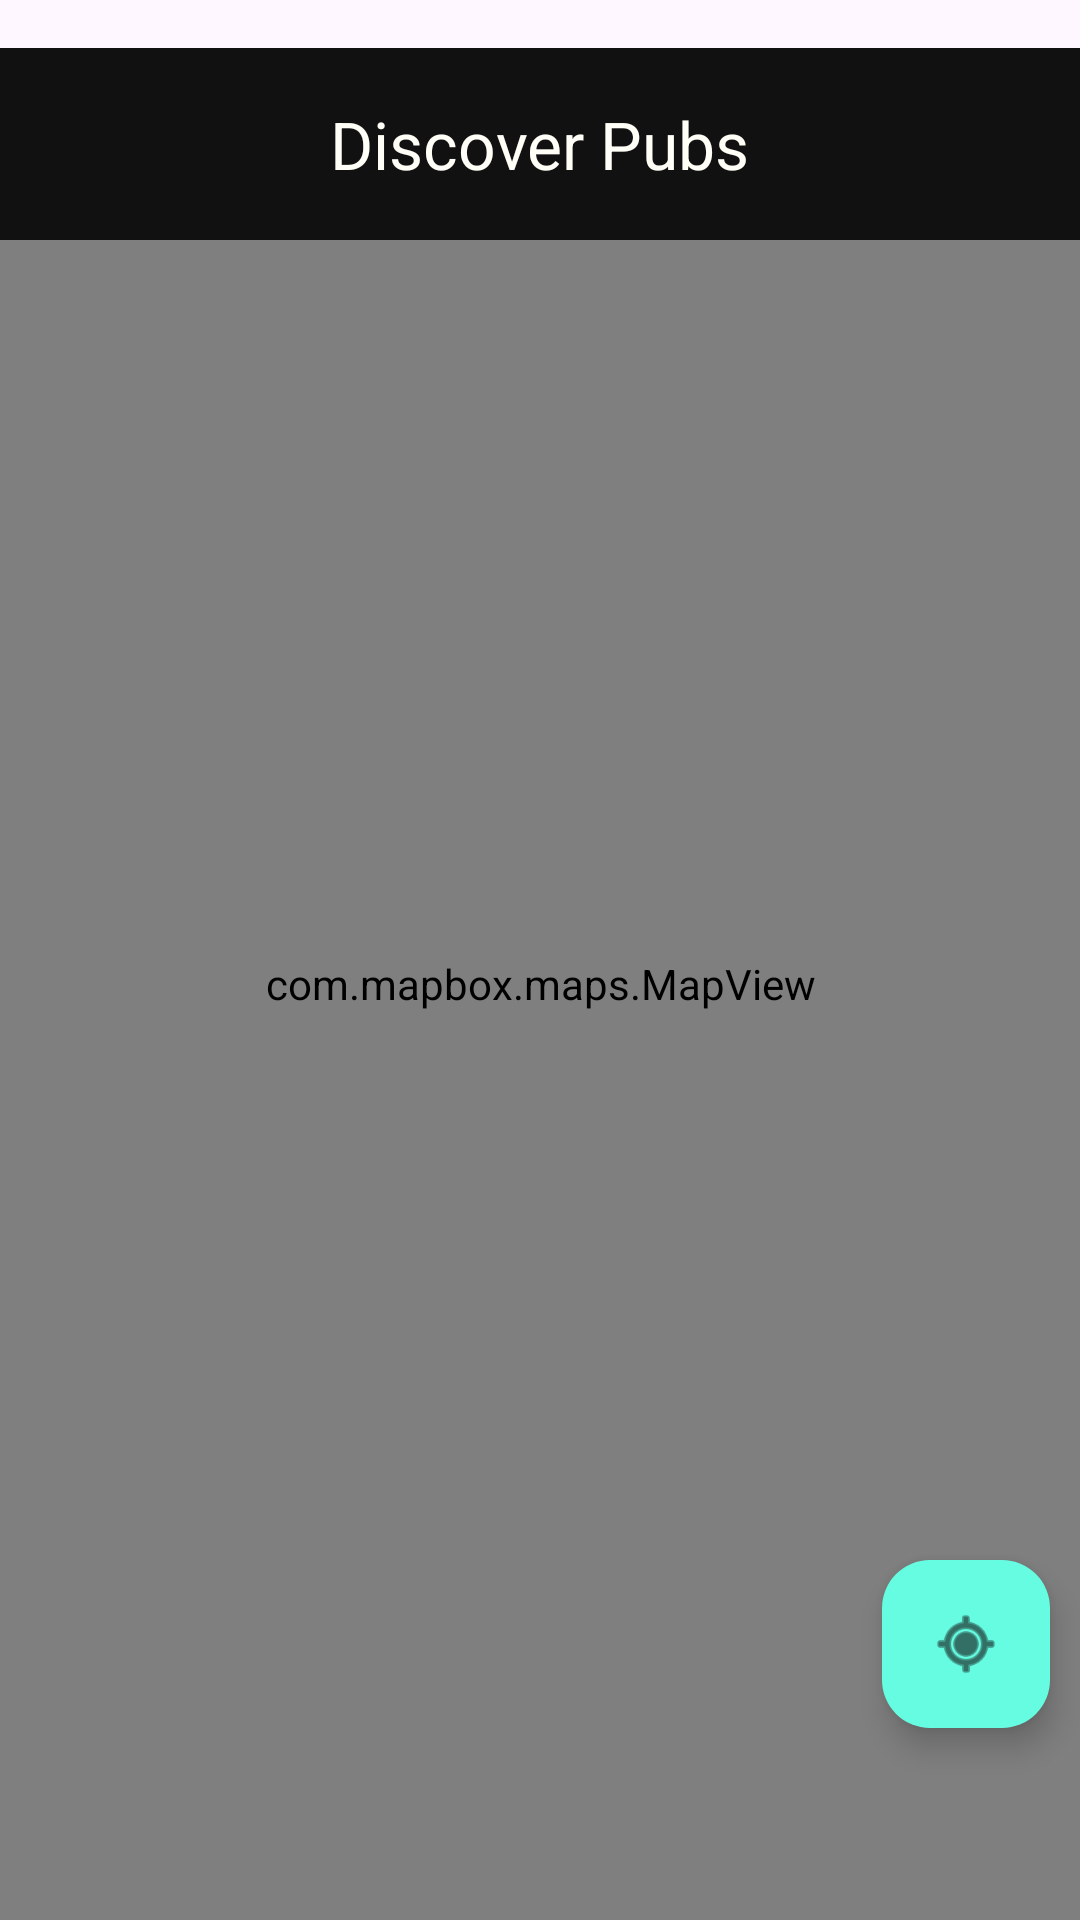

Point at icon controls on the screen. Image size 1080 × 1920, points as (x,y).
mylocation: (966,1644)
